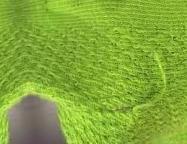snag: (130, 47, 172, 120)
